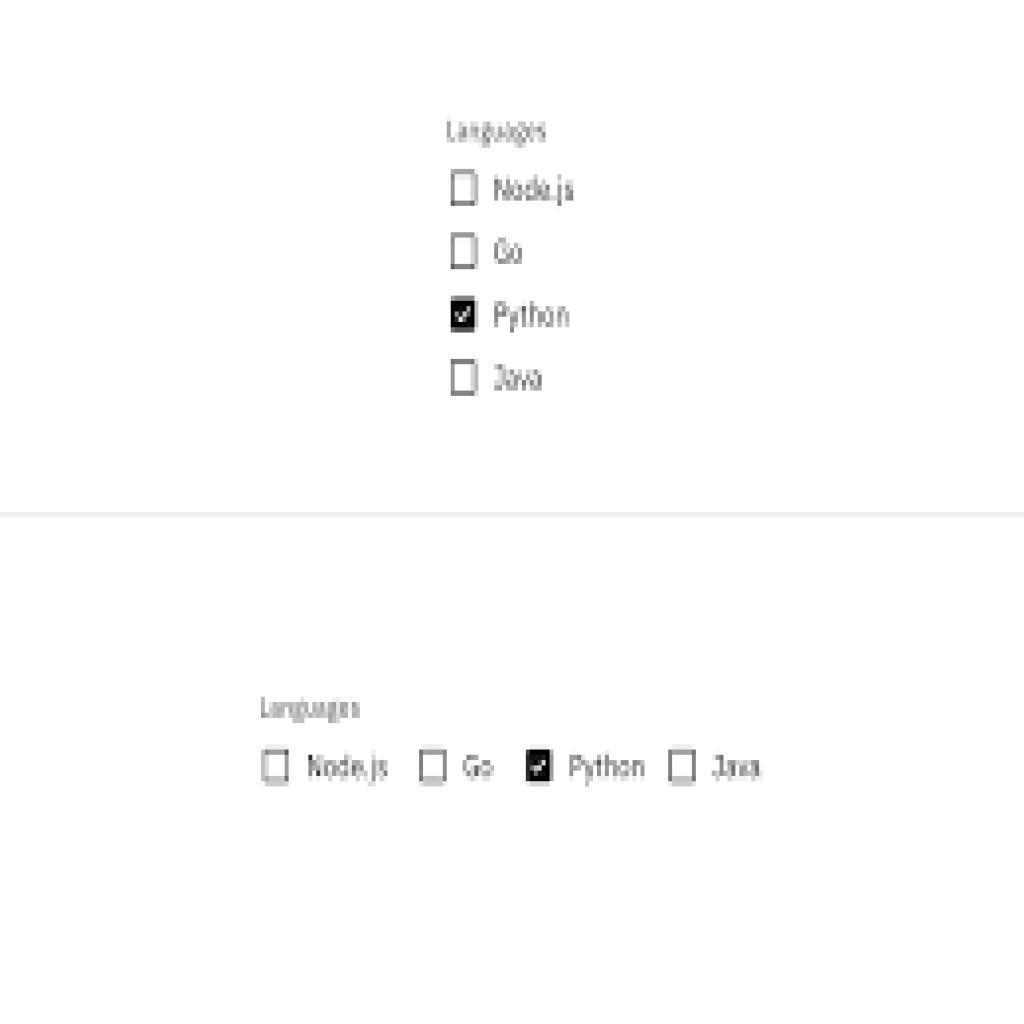checkbox: (668, 746, 696, 787), (524, 749, 555, 786), (450, 296, 480, 334), (451, 168, 479, 206), (451, 359, 480, 395), (451, 232, 479, 269), (419, 750, 447, 787), (263, 749, 288, 786)
label: (488, 169, 586, 210), (490, 298, 581, 339), (564, 748, 650, 786), (305, 750, 390, 786), (490, 358, 548, 398), (711, 751, 766, 783), (491, 233, 529, 274), (461, 751, 498, 782)
